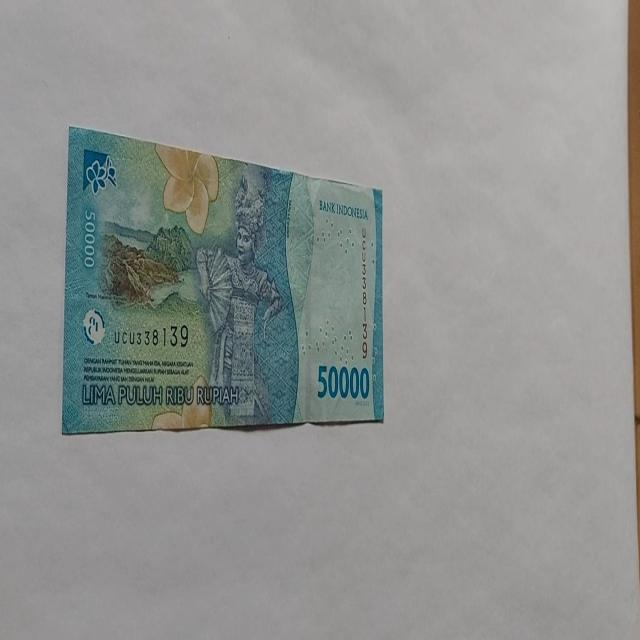lima puluh ribu rupiah: (61, 123, 385, 434)
